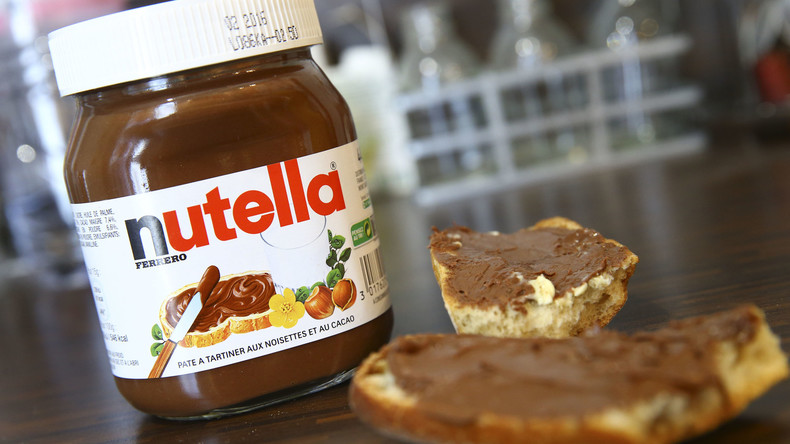nutella: (46, 1, 397, 421)
